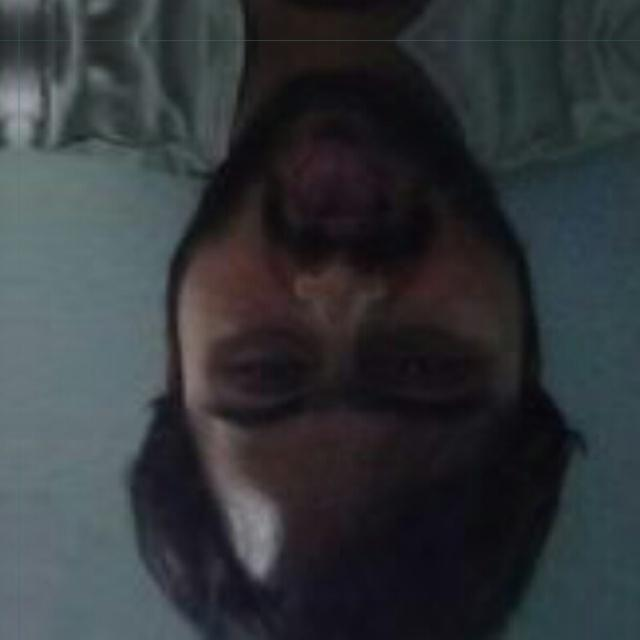Disgust: (106, 96, 587, 541)
